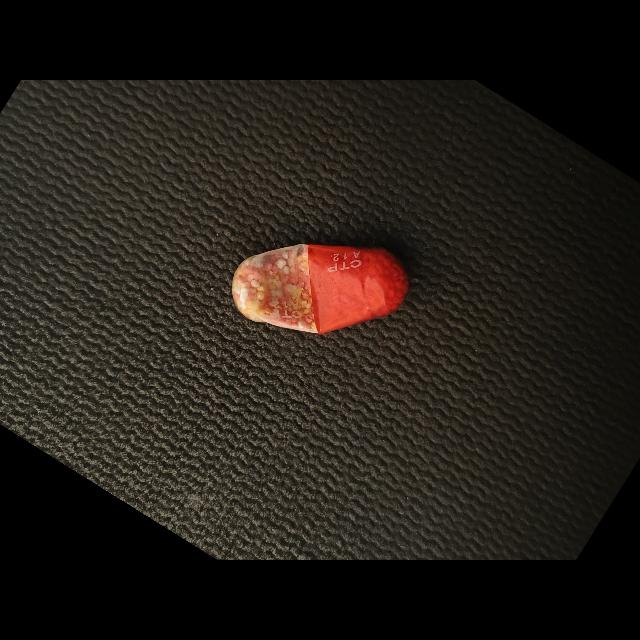Defective Capsule: (232, 244, 409, 334)
